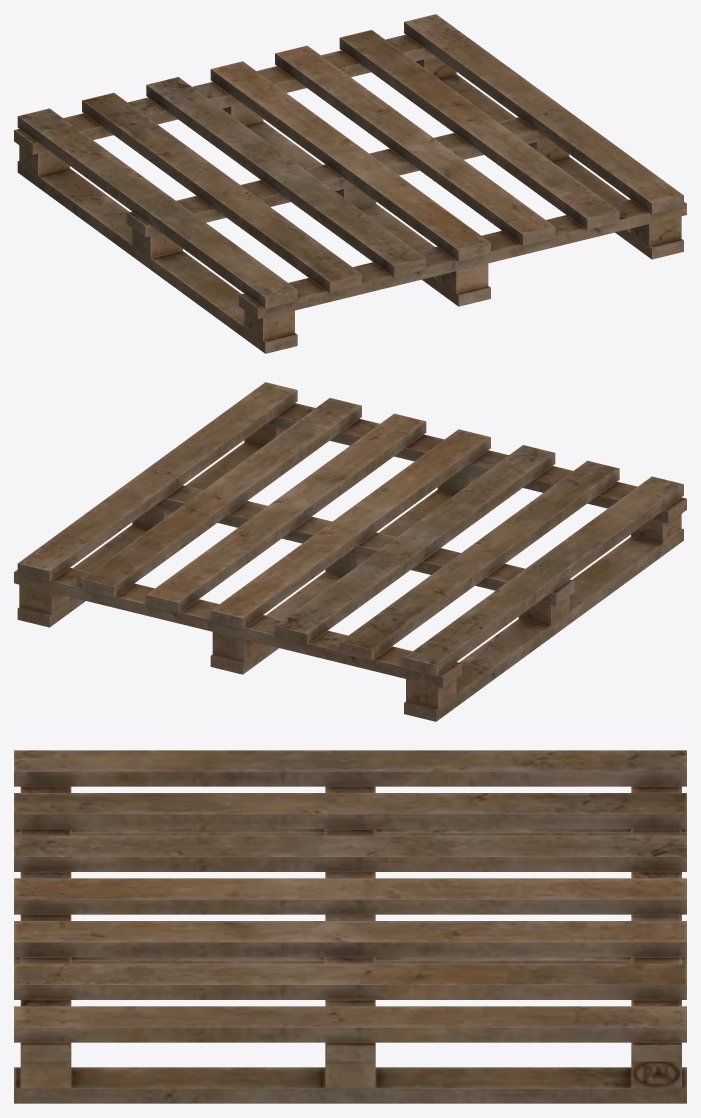
File: pallet.glb
3 views of the same model, one above another, from view 1: azimuth 30°, elevation 25°; view 2: azimuth 150°, elevation 25°; view 3: azimuth 270°, elevation 25° (orthographic). The views are drawn at different scales.
Visible parts, largest first — view 1: defaultMaterial; view 2: defaultMaterial; view 3: defaultMaterial.
Boxes of the visible parts, bbox=[...] form: defaultMaterial: bbox=[14, 14, 686, 353]; defaultMaterial: bbox=[14, 382, 686, 721]; defaultMaterial: bbox=[14, 750, 686, 1103].
Size of the model in its own units: 1.2 by 0.15 by 1.2.
1 material, 1 textured.
